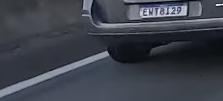Placa_mercosul_carro: (138, 1, 189, 18)
